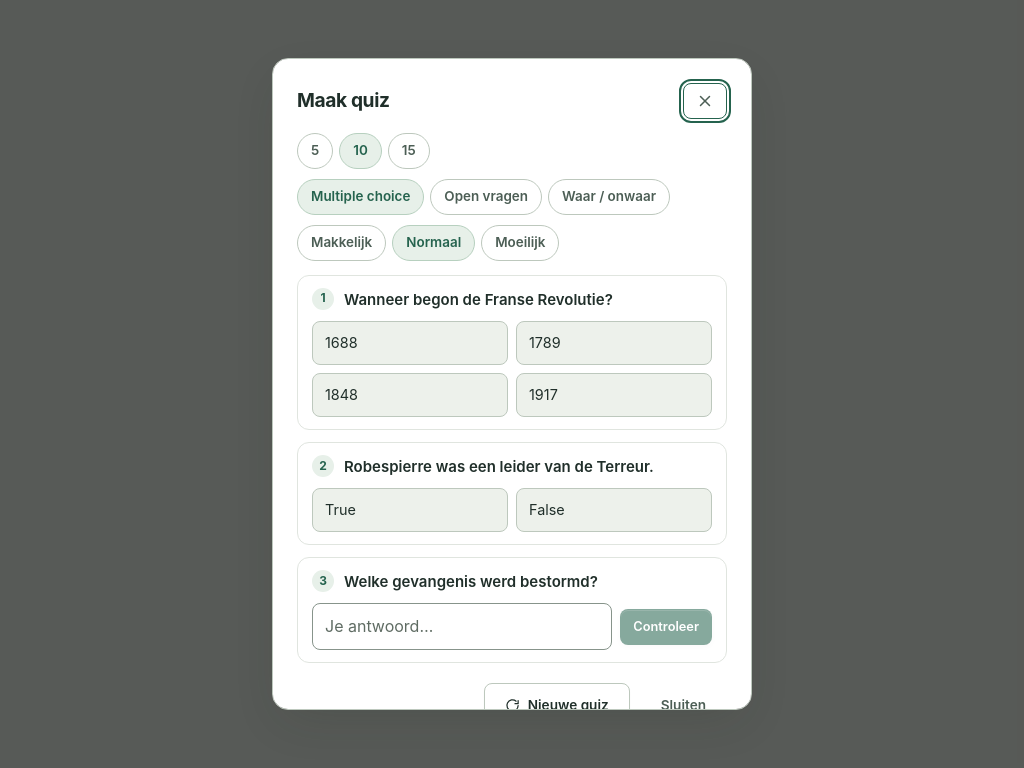
AiQuizModal › judges an open answer with Lerno AI
The image size is (1024, 768).
Expected: the text "Welke gevangenis werd bestormd?" is shown, [344,572,598,591]
Type "De Bastille" into the field named "Antwoord vraag 3" at (462, 627), box [312,603,612,650]
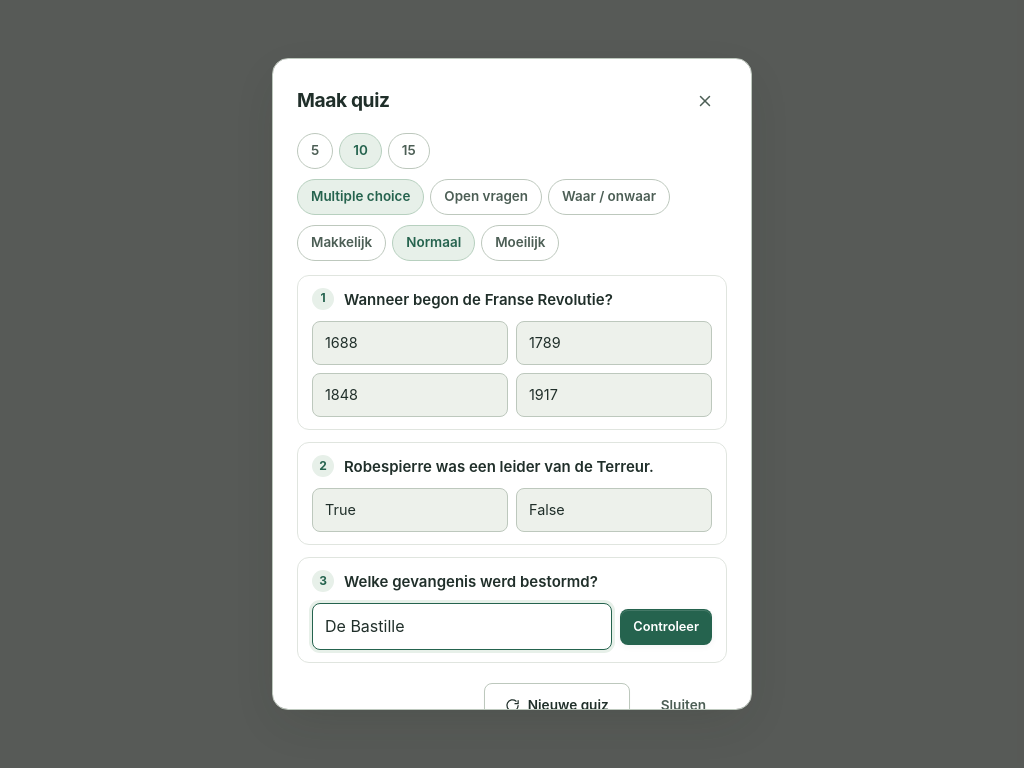
Click the button "Controleer" at (666, 627), box [620,609,712,645]
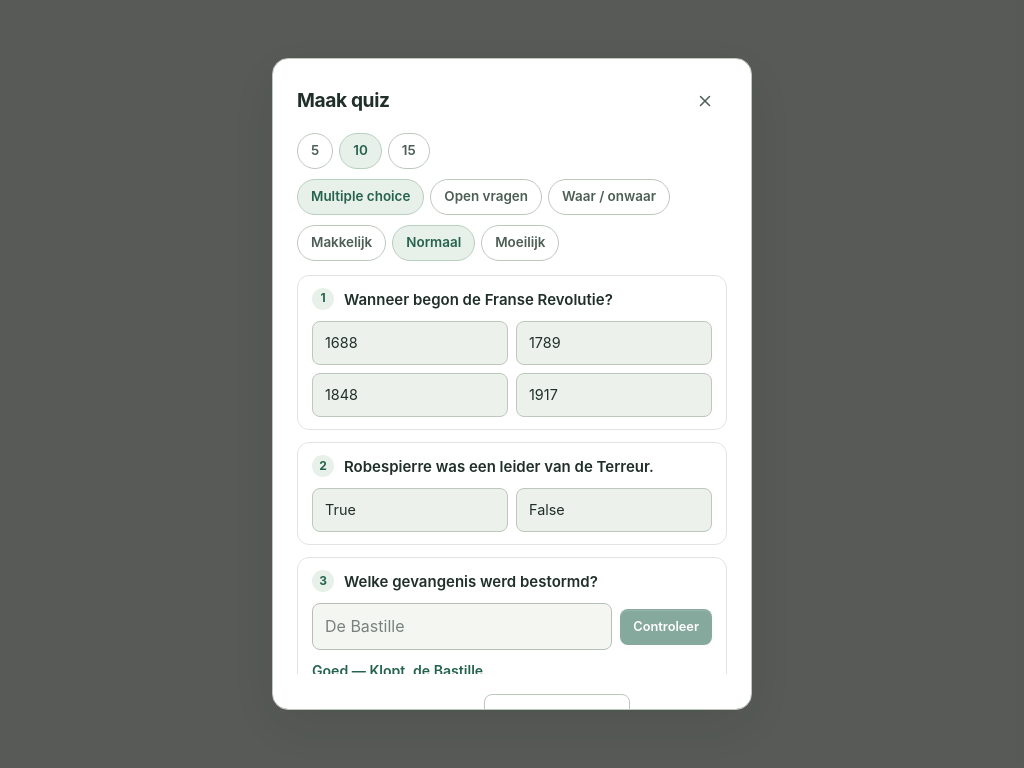
Expected: the text "Goed — Klopt, de Bastille." is shown, [312,662,488,674]
